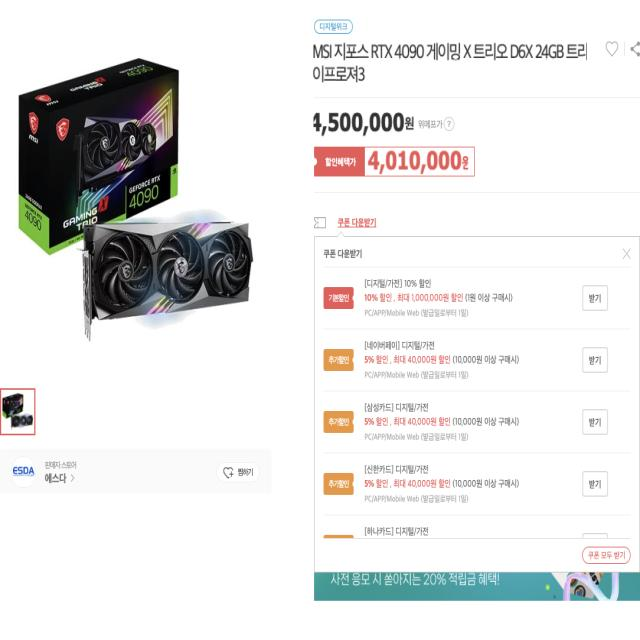product_discount_price: (368, 149, 468, 175)
product_name: (312, 36, 587, 82)
product_original_price: (314, 111, 418, 141)
